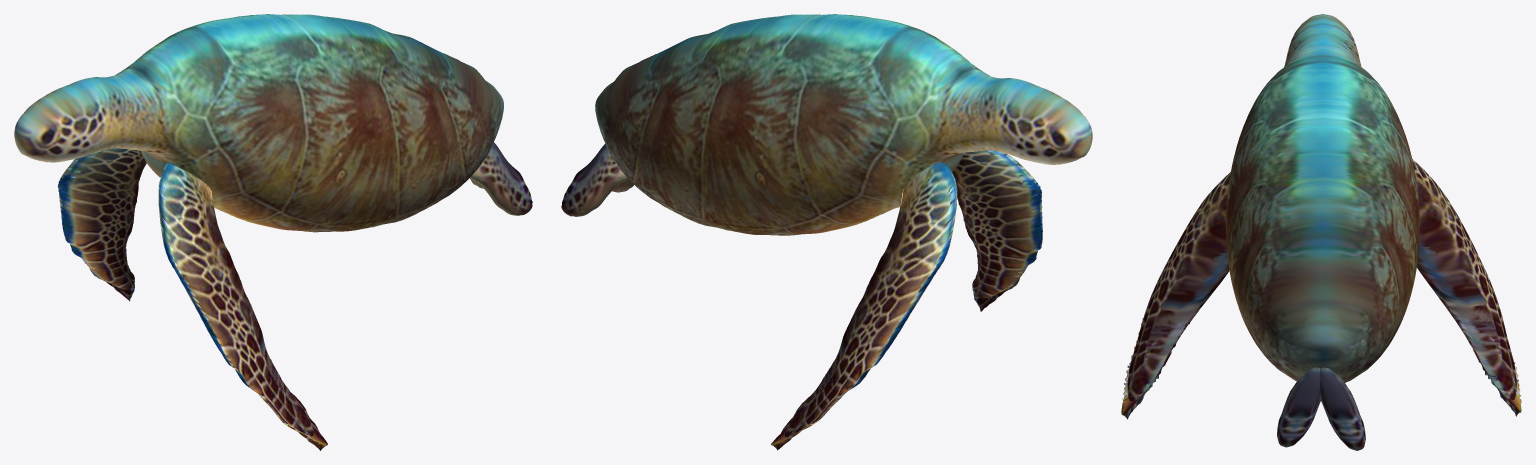
The model's file is loggerhead-turtle.glb.
3 renders of one model, left to right at view 1: azimuth 30°, elevation 25°; view 2: azimuth 150°, elevation 25°; view 3: azimuth 270°, elevation 25°, orthographic. The views are drawn at different scales.
Parts seen in each view (by area): view 1: mm_frame (44); view 2: mm_frame (44); view 3: mm_frame (44).
Part boxes in pixels (x1,y1,x2,y2): mm_frame (44): (14,14,532,450); mm_frame (44): (561,14,1092,450); mm_frame (44): (1121,14,1521,450).
Bounding box in the file's own units: 7.25 × 4.84 × 5.02.
Materials: 1 (1 with a texture image).
